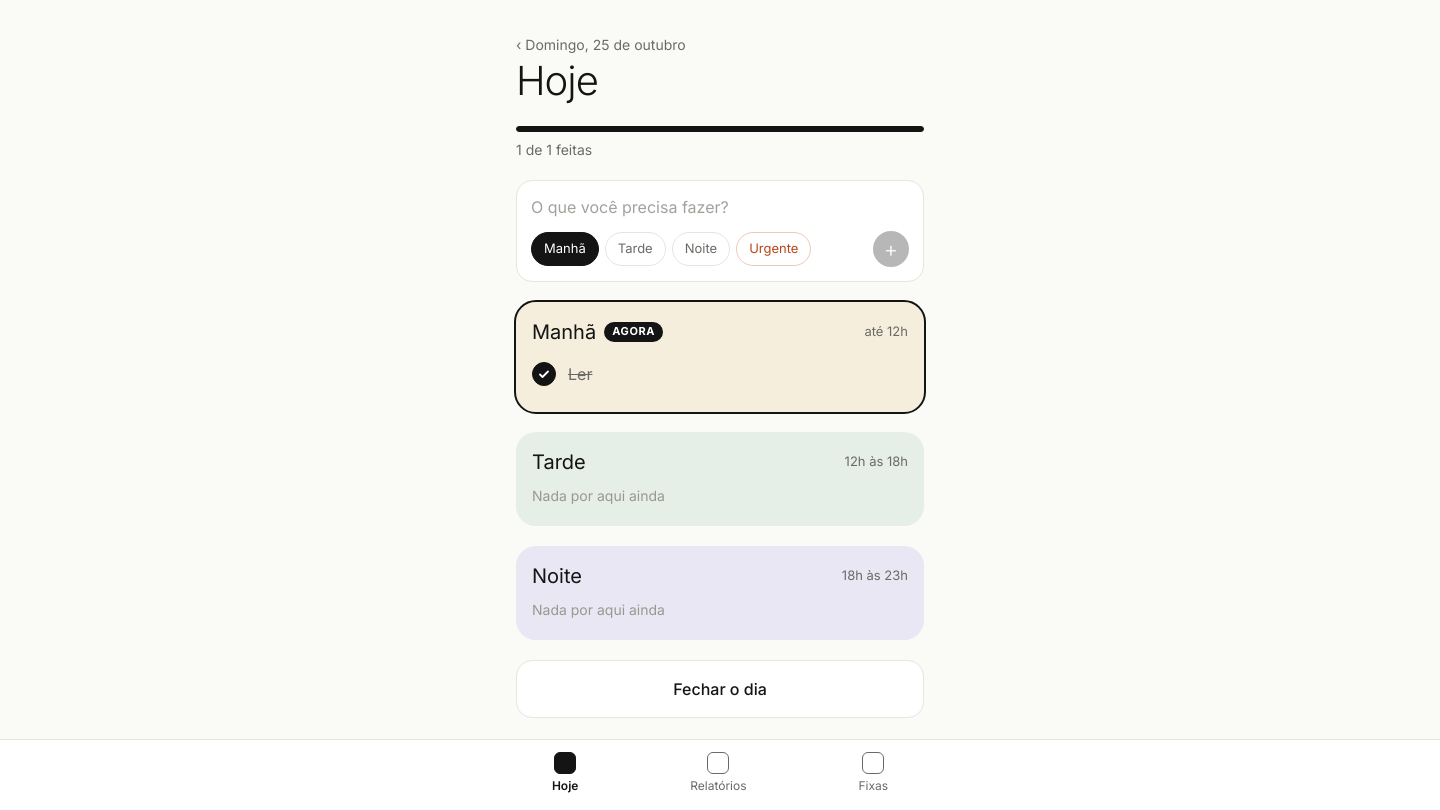
J2 e J3: planejar e fazer › numa atividade feita, o menu não oferece "levar" (API não deixa mover feitas)
The width and height of the screenshot is (1440, 810).
Click the button "Ler" at (580, 374), box x1=568 y1=362 x2=908 y2=386
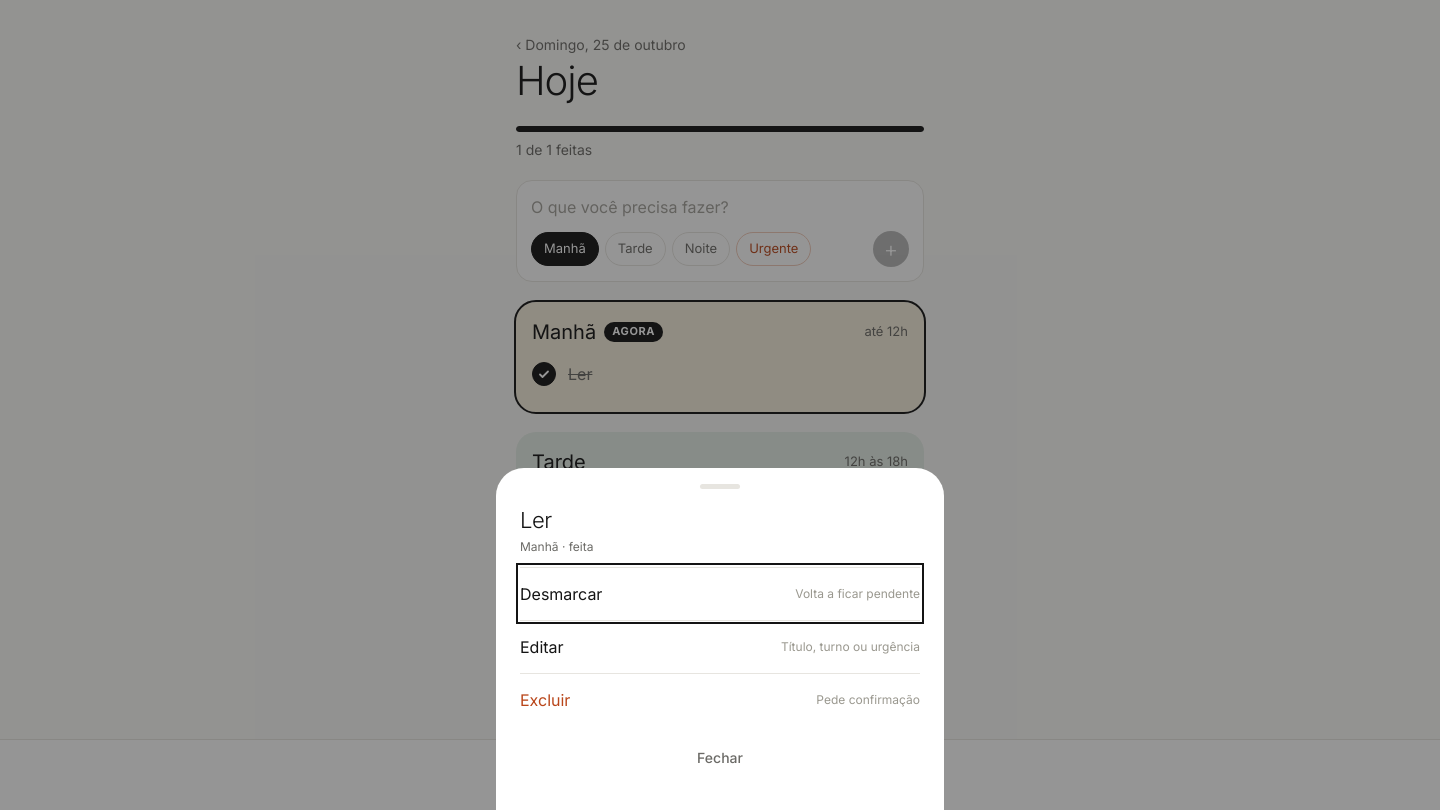
Now the text "Desmarcar" is shown, box x1=520 y1=584 x2=602 y2=604
